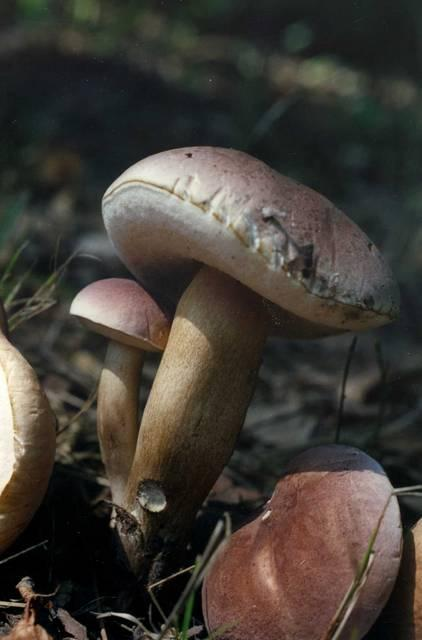poisonous_mushroom: (87, 143, 402, 577)
